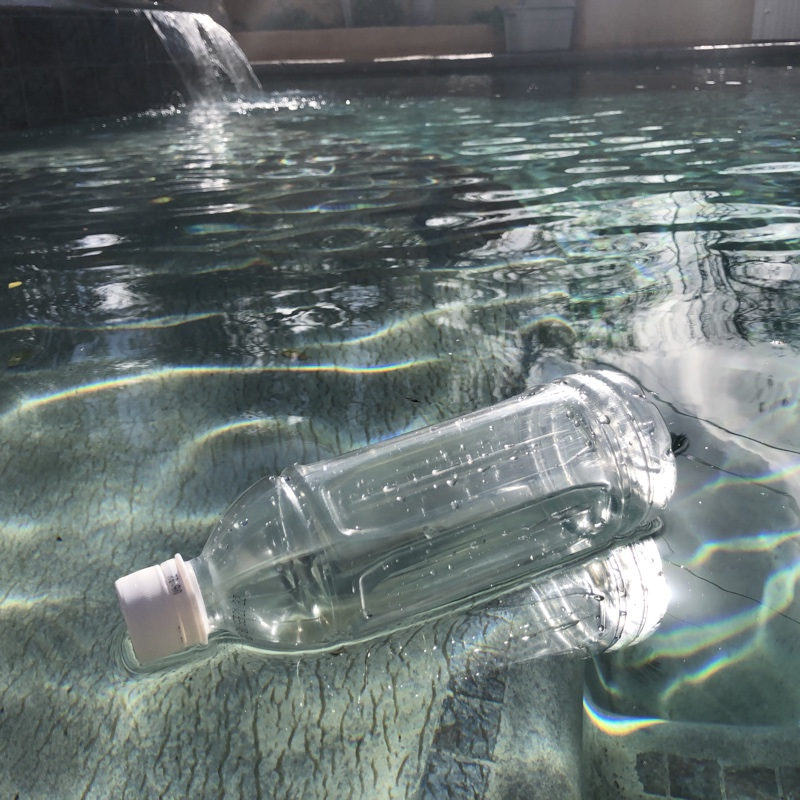Plastic Bottle: (107, 357, 681, 678)
